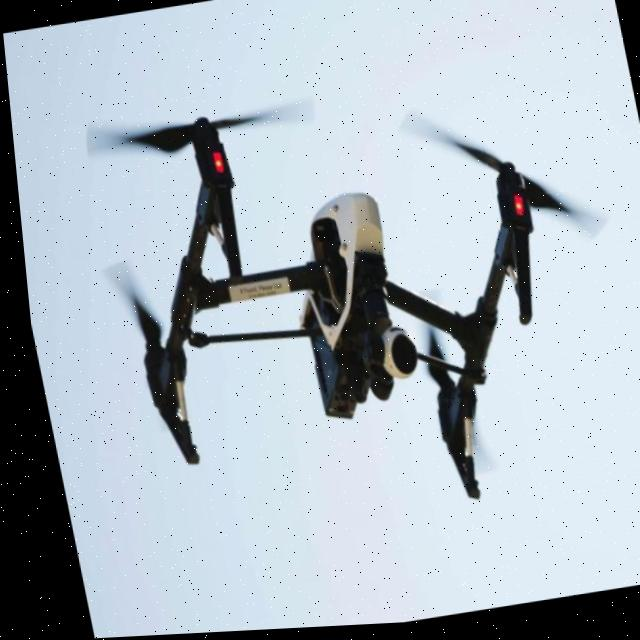drones: (44, 5, 640, 609)
